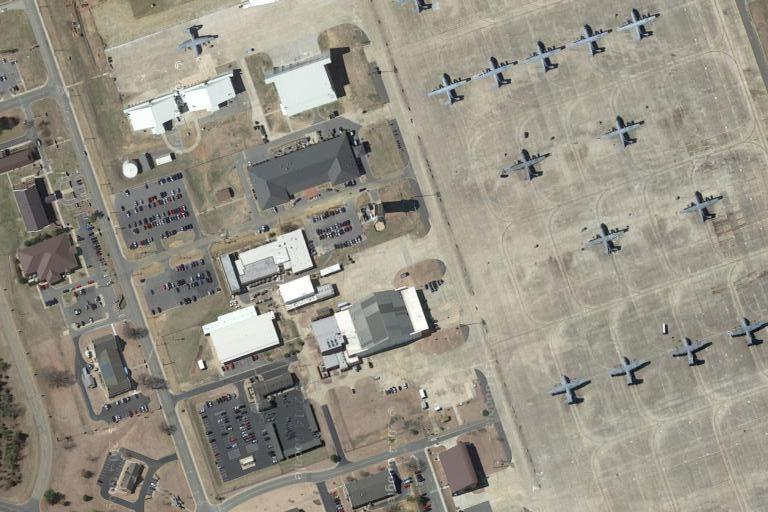C-130: (471, 48, 524, 94), (425, 68, 476, 113), (598, 112, 649, 152), (521, 36, 569, 78), (583, 218, 631, 260), (569, 18, 613, 63), (667, 330, 714, 372), (613, 7, 663, 46), (177, 19, 222, 62), (679, 186, 726, 227), (607, 350, 654, 390), (507, 145, 553, 185), (547, 372, 594, 411), (726, 315, 765, 353)
